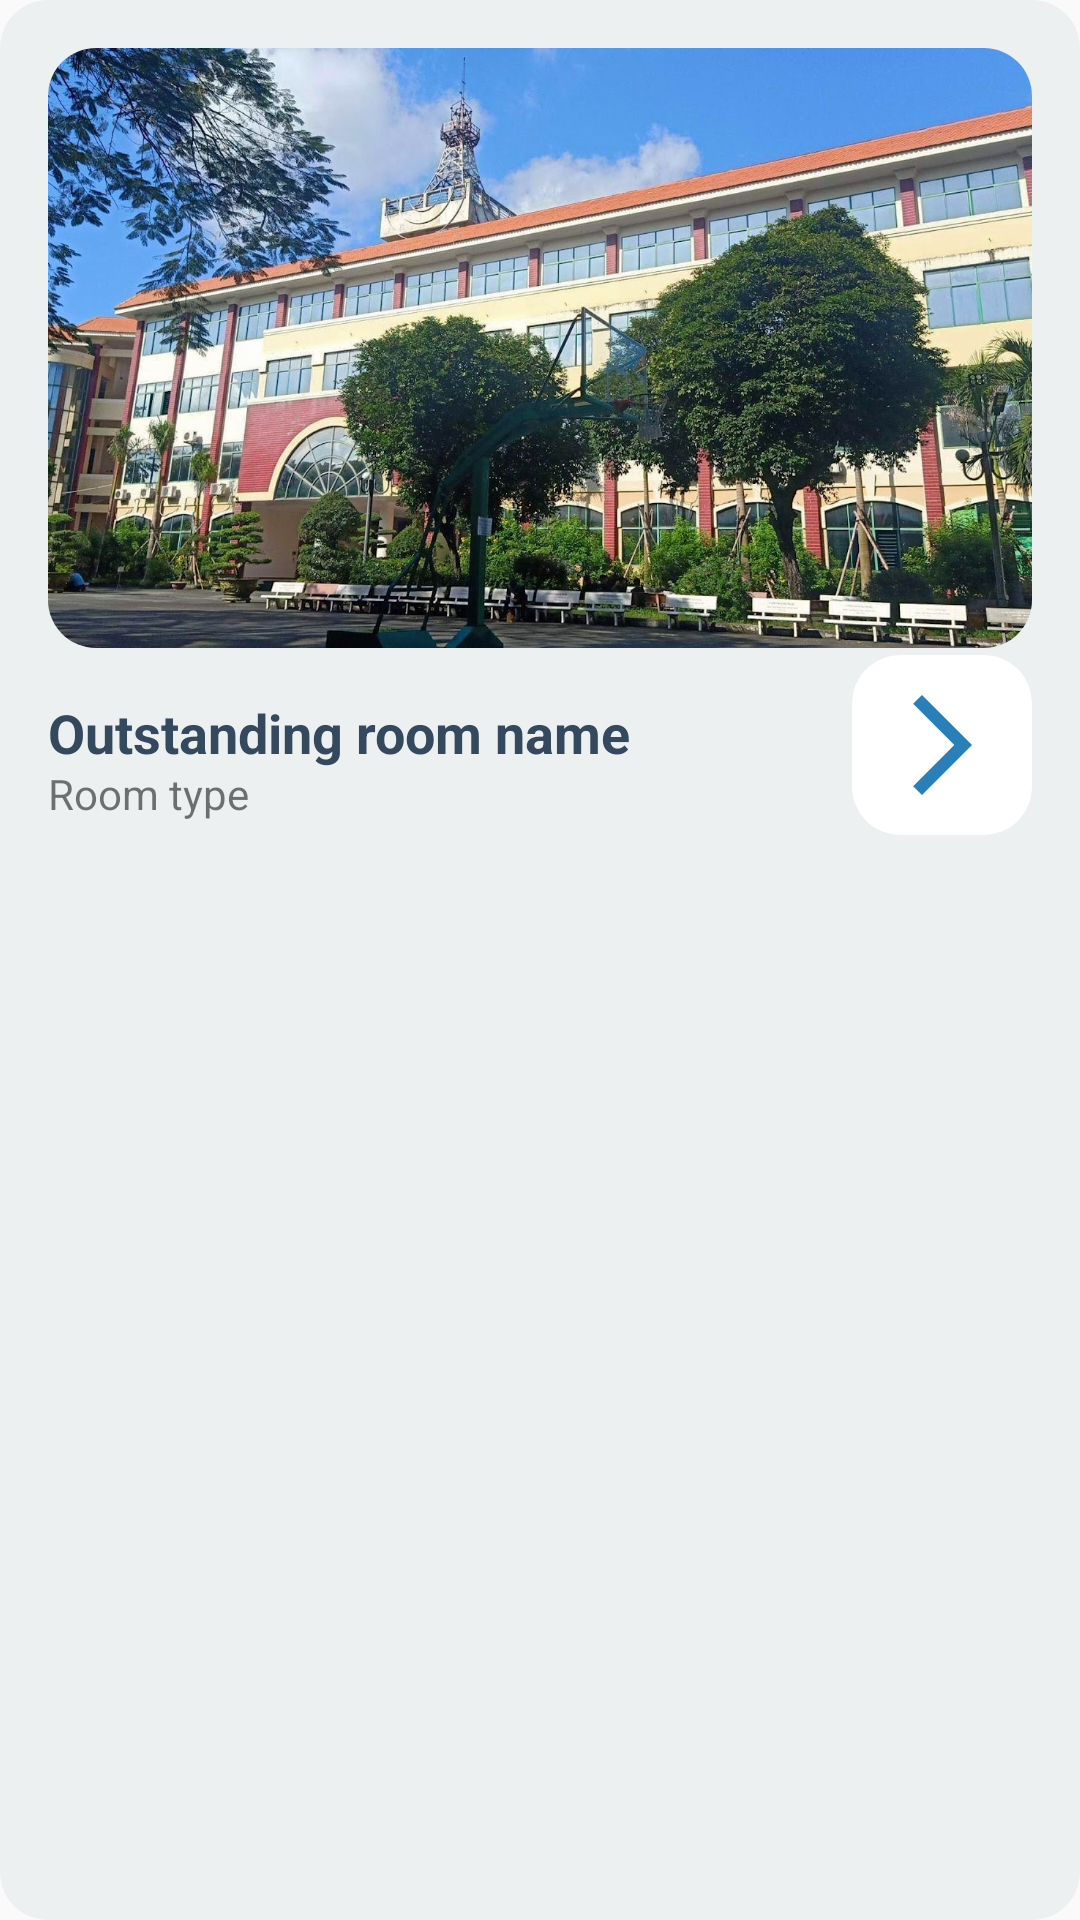

Where icons sit on this 1080w x 1920h app screen, as (x1, y1, x2, y2):
next arrow: (913, 695, 972, 795)
